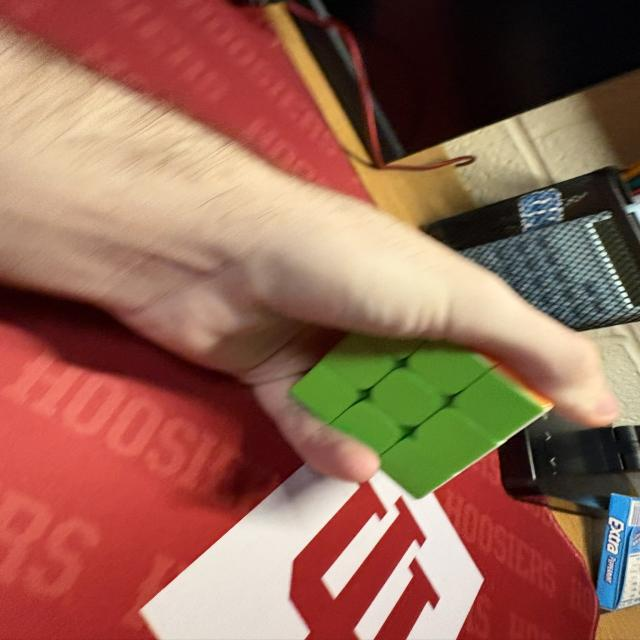Rubiks Cube: (288, 332, 556, 500)
